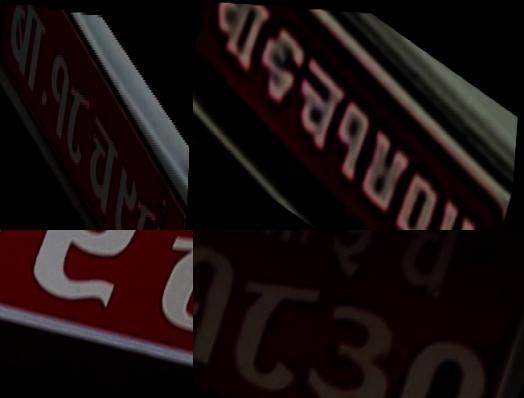0: (374, 313, 523, 398), (393, 158, 447, 230)
1: (193, 230, 267, 375), (326, 84, 380, 189), (42, 26, 75, 150)
3: (283, 285, 430, 398)
4: (354, 113, 420, 229)
5: (303, 230, 405, 289), (426, 189, 492, 230)
6: (252, 9, 313, 111)
8: (204, 253, 343, 398), (137, 230, 193, 349), (61, 61, 94, 179), (129, 176, 159, 230)
9: (15, 230, 162, 320), (111, 139, 142, 230), (148, 204, 178, 230)
ba: (199, 1, 275, 77), (3, 1, 48, 106), (215, 230, 339, 262)
cha: (371, 230, 487, 309), (286, 46, 354, 157), (83, 94, 123, 226)
